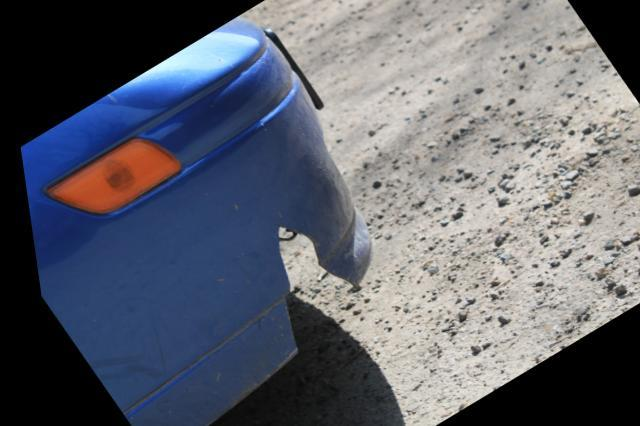no part: (269, 224, 352, 354)
